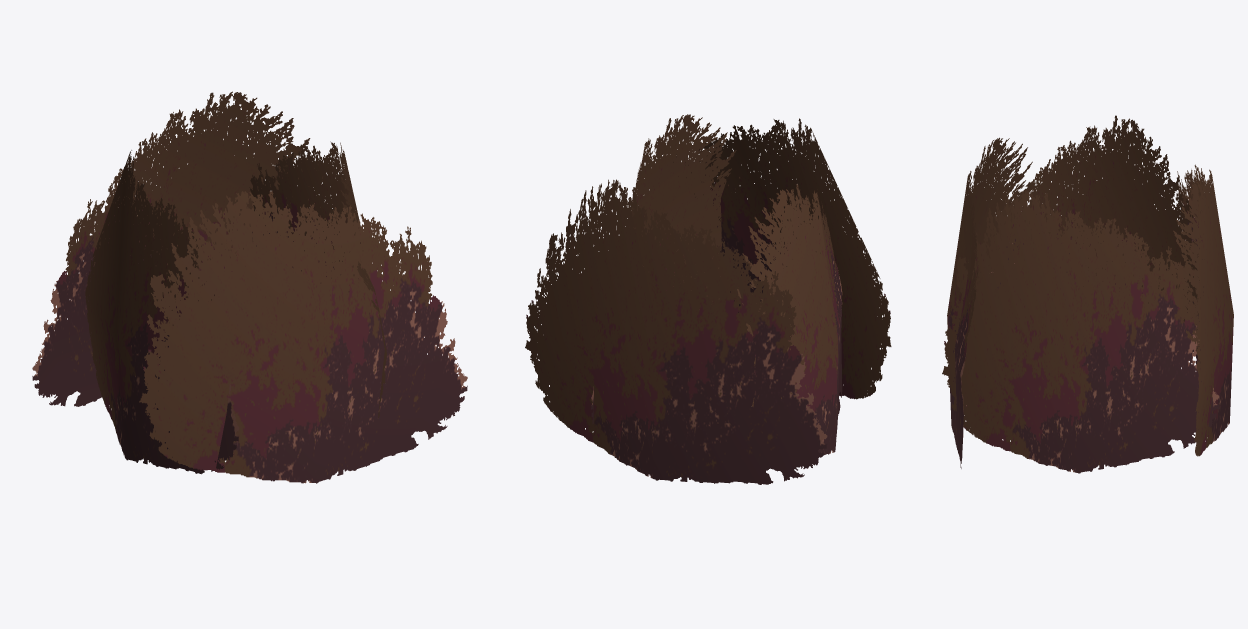
File: Bush.fbx
3 views of the same model, side by side, from view 1: azimuth 30°, elevation 25°; view 2: azimuth 150°, elevation 25°; view 3: azimuth 270°, elevation 25° (orthographic). The views are drawn at different scales.
Visible parts, largest first — view 1: pPlane2; view 2: pPlane2; view 3: pPlane2.
Part boxes in pixels (box(x1,y1,x2,y2)): pPlane2: box(32, 91, 467, 483); pPlane2: box(525, 114, 891, 484); pPlane2: box(942, 115, 1233, 473).
Bounding box in the file's own units: 1.65 × 2.11 × 1.3.
